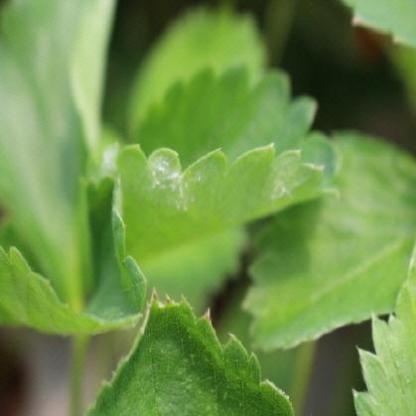Strawberry_Powdery_Mildew_Leaf: (115, 142, 344, 264)
